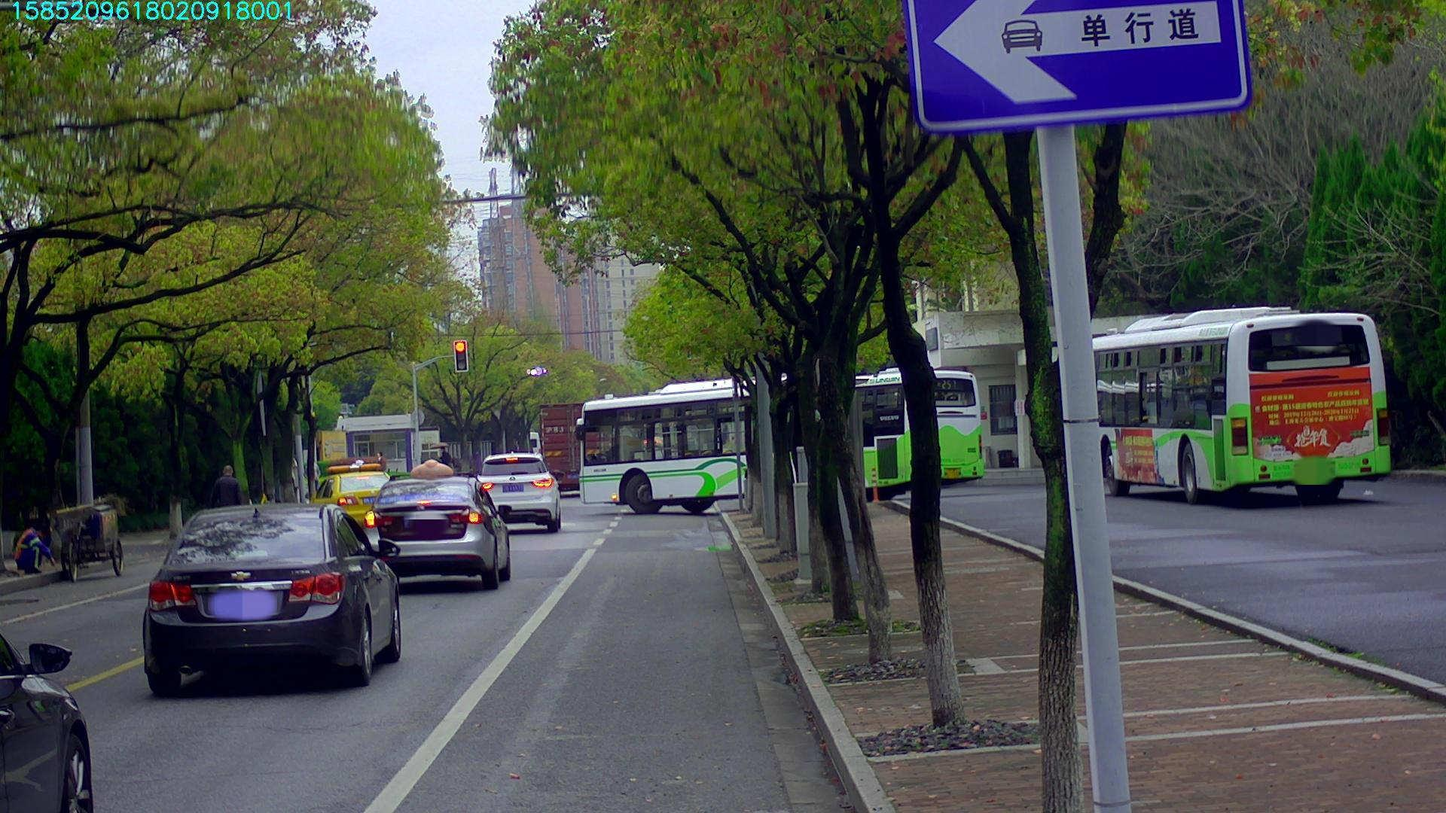red: (454, 341, 466, 370)
